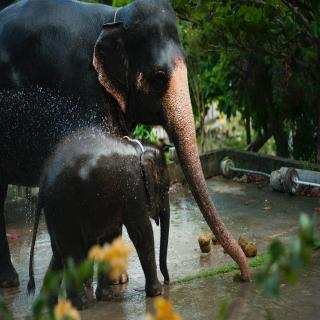Elephant: (0, 0, 259, 294), (26, 124, 174, 309)
